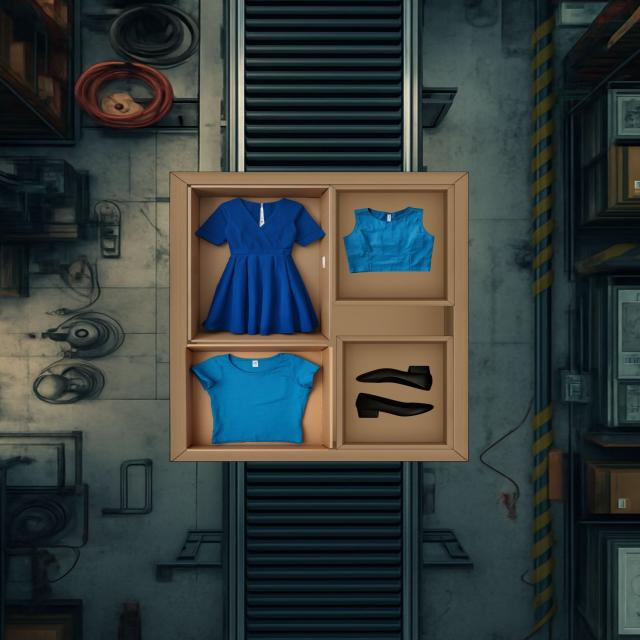dress: (196, 198, 325, 335)
heel: (356, 393, 433, 418), (356, 366, 432, 391)
top: (191, 353, 319, 444), (344, 207, 434, 273)
